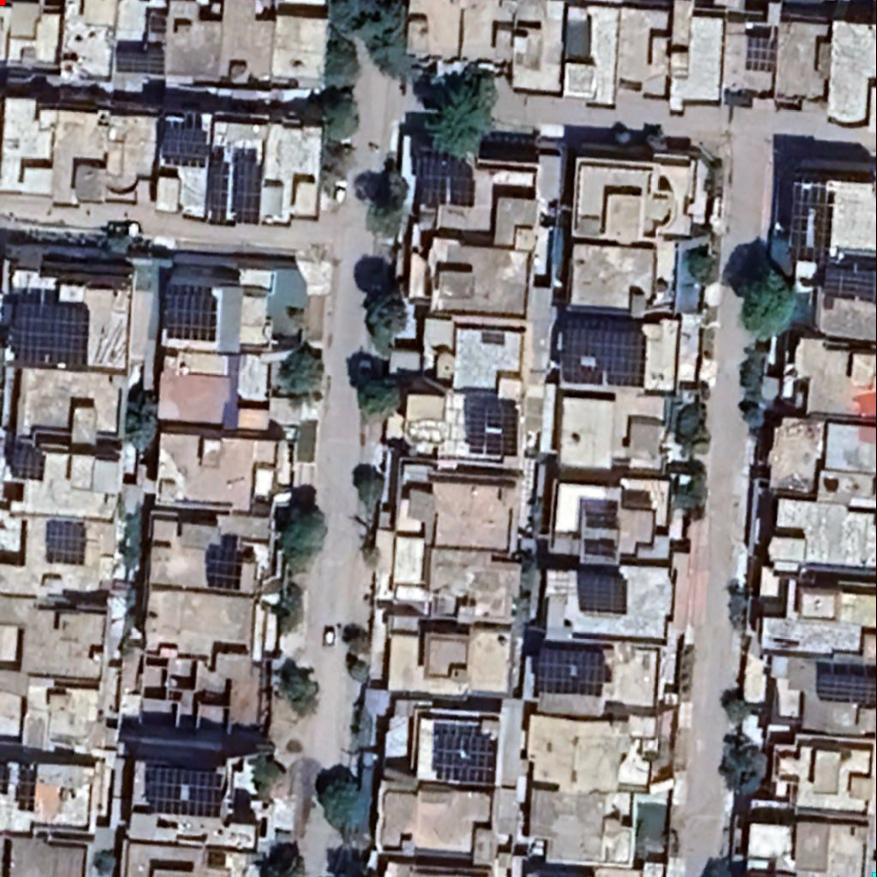Solarpanel: (2, 290, 94, 375), (554, 312, 652, 390), (133, 759, 229, 822), (206, 137, 268, 228), (528, 636, 612, 702), (153, 272, 225, 346), (428, 719, 502, 789), (786, 176, 838, 262), (408, 149, 480, 210), (458, 396, 522, 460), (155, 111, 212, 171), (574, 563, 630, 618), (812, 262, 876, 309), (40, 515, 90, 570), (201, 536, 246, 596), (813, 667, 876, 709), (110, 37, 170, 80), (5, 439, 48, 486), (742, 30, 780, 73)
